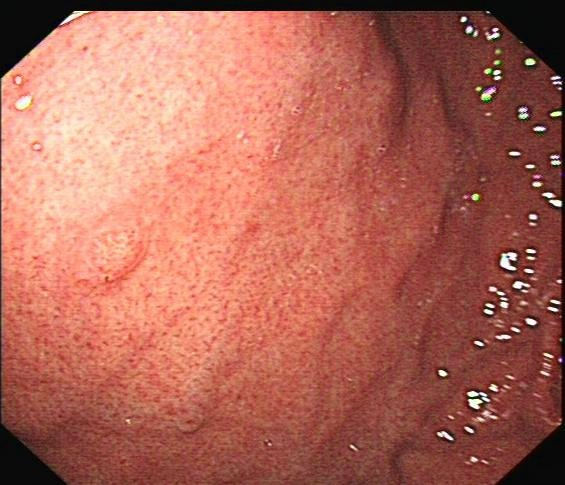Polyp: (81, 230, 138, 285)
